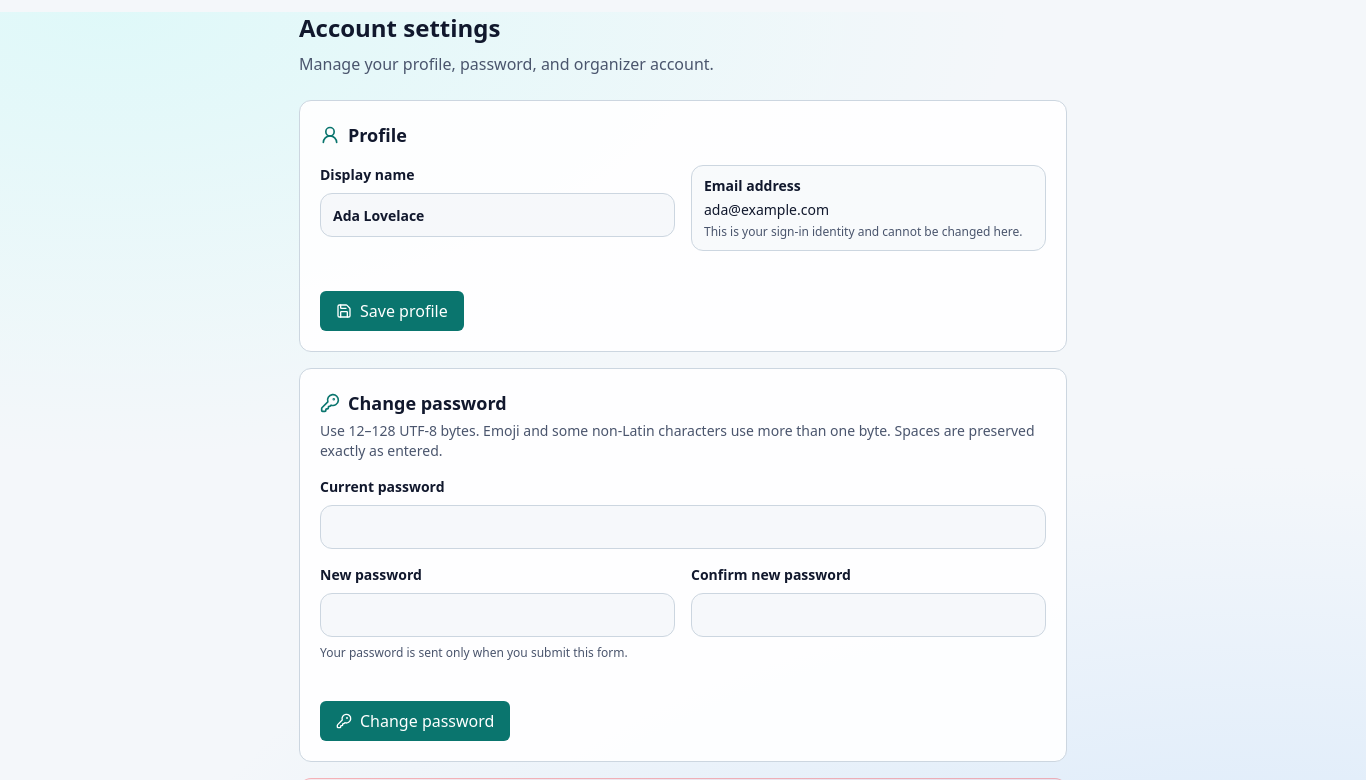
it: AccountSettingsPage › shows a human reauthentication error without signing the user out
The image size is (1366, 780).
expect the heading "Account settings" is shown: met, box [299,11,500,44]
In the password field labelled "Current password": (683, 527) [320,505,1046,549], type "wrong password"
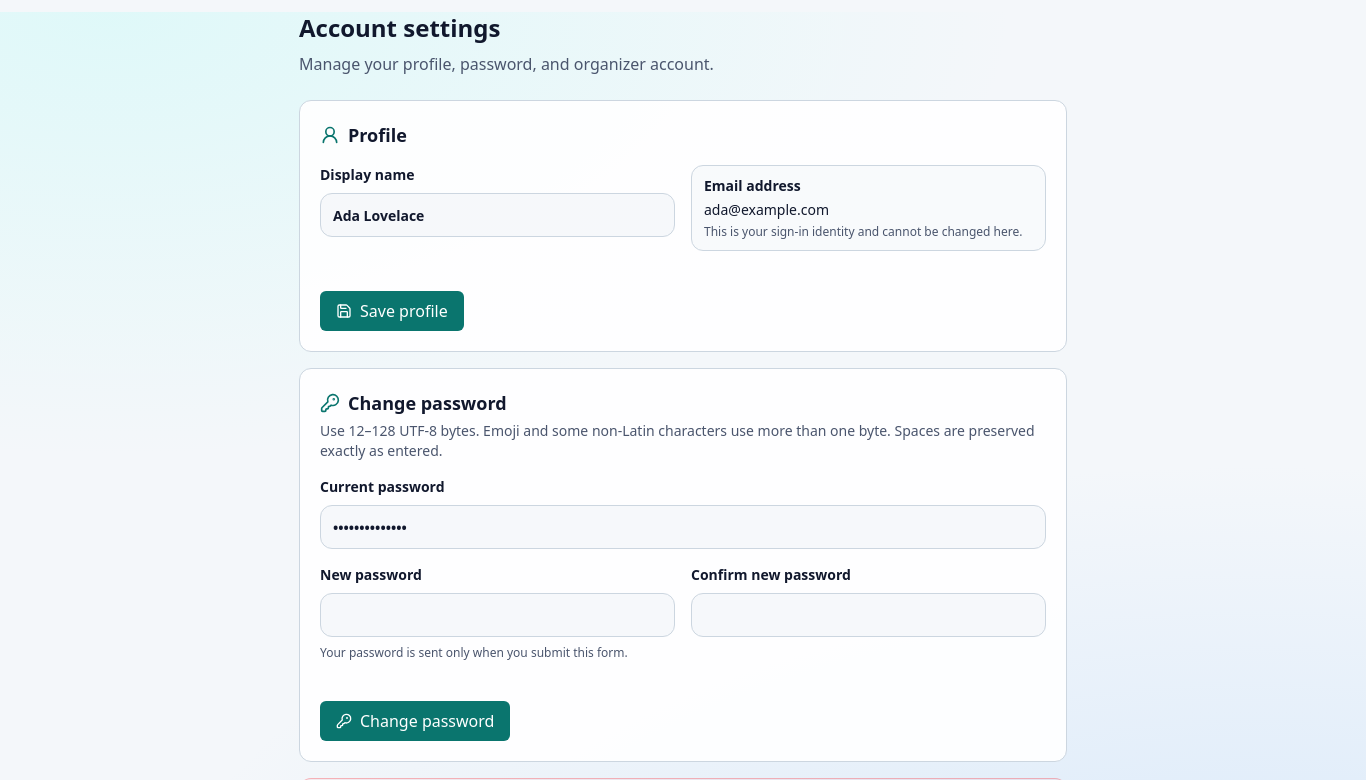
In the password field labelled "New password": (498, 615) [320,593,675,637], type "a long new password"
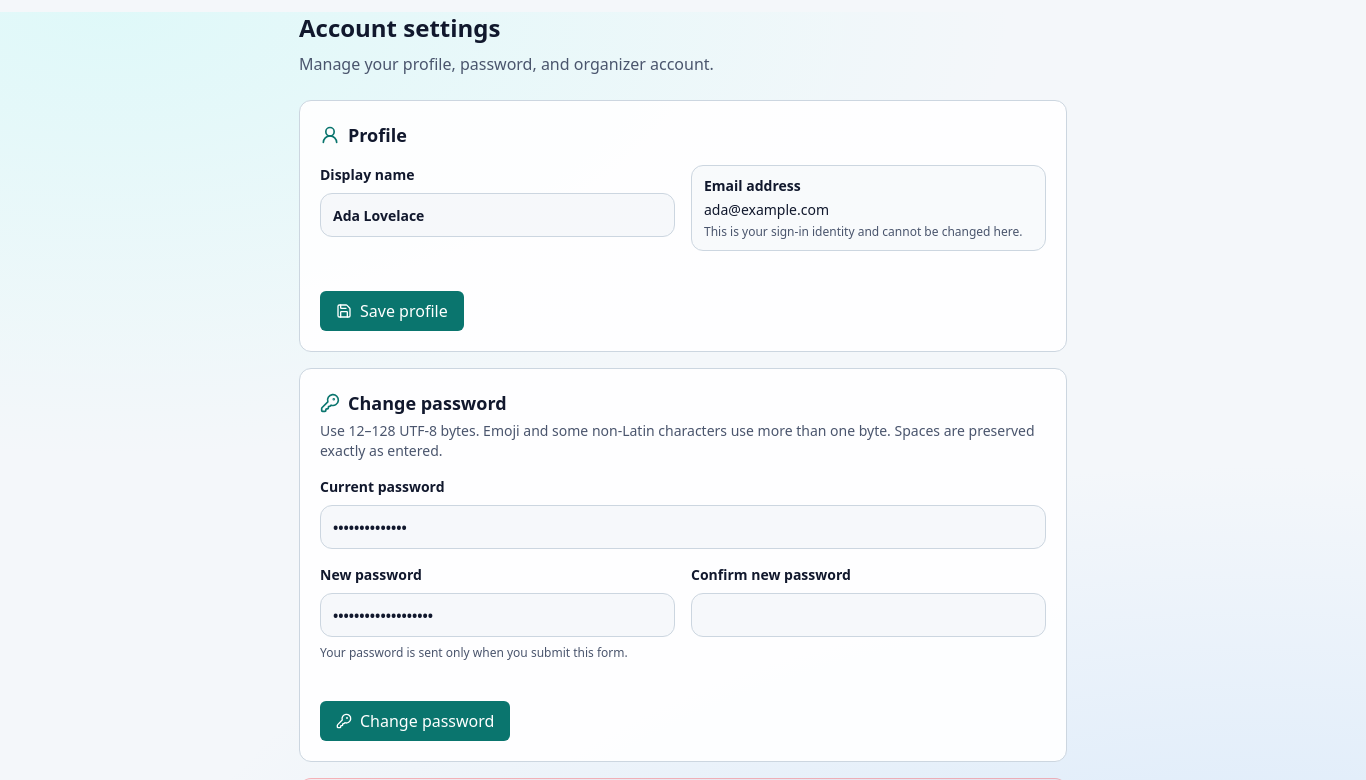
In the password field labelled "Confirm new password": (868, 615) [691,593,1046,637], type "a long new password"
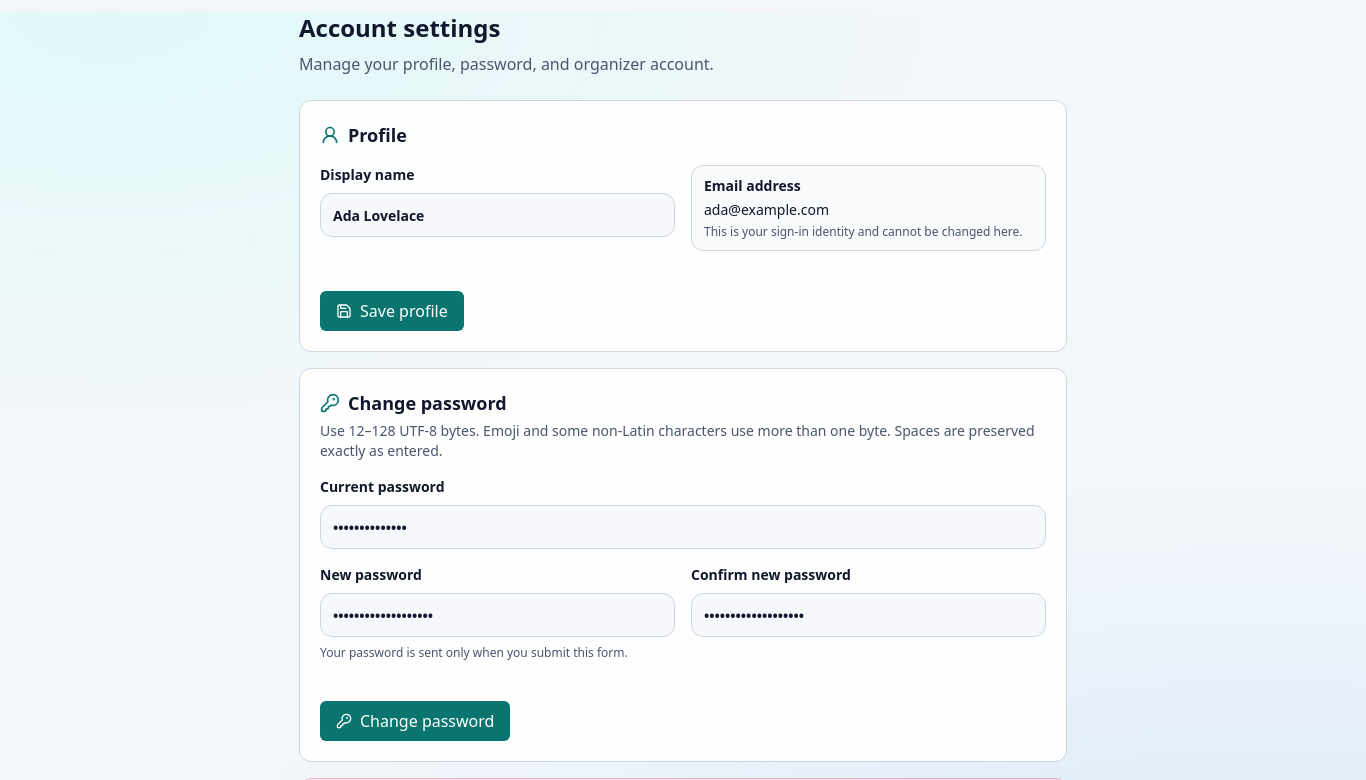
Click the button "Change password": click(415, 721) [320,701,510,741]
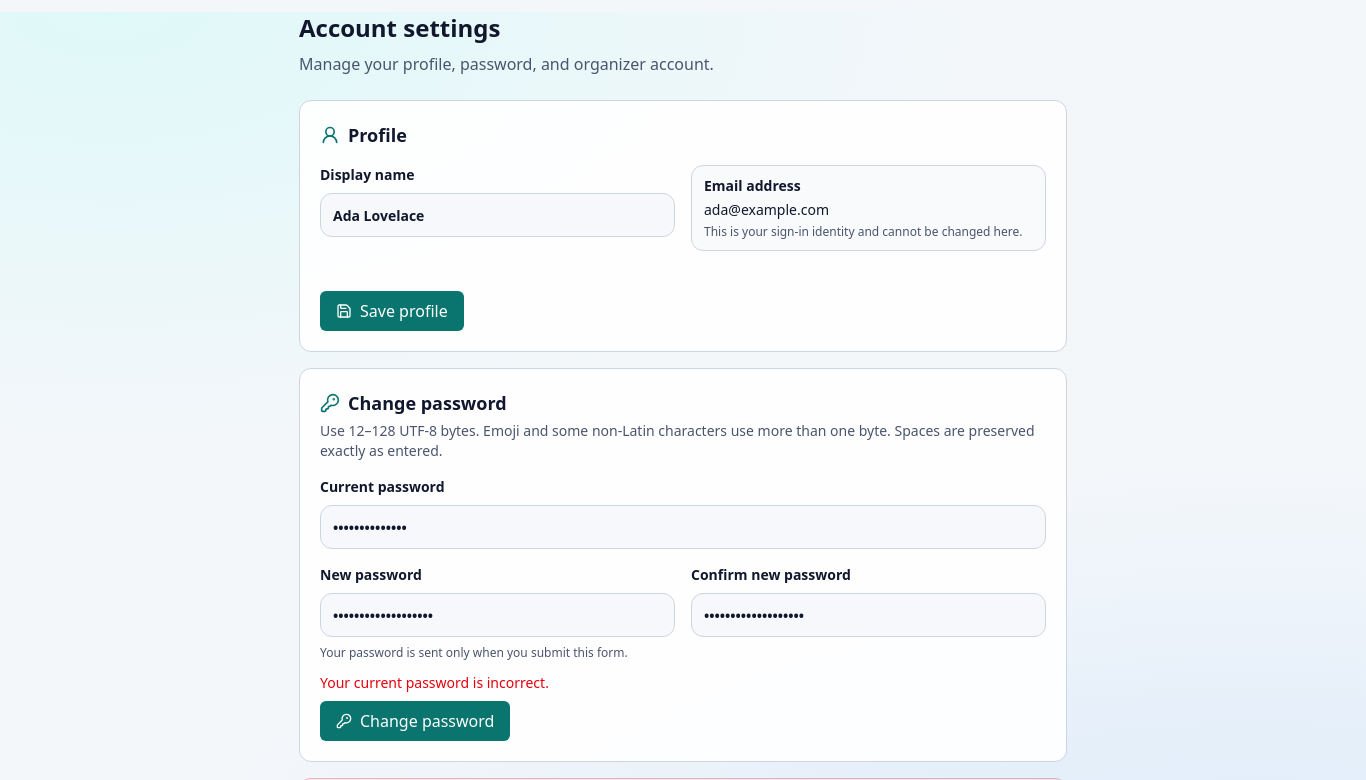
expect the text "Your current password is incorrect." is shown: met, box [320,673,549,692]
